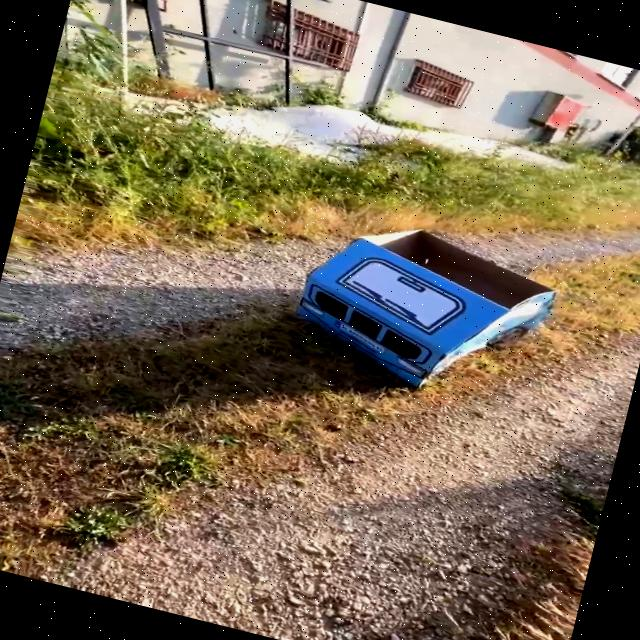blue_car: (253, 183, 625, 438)
